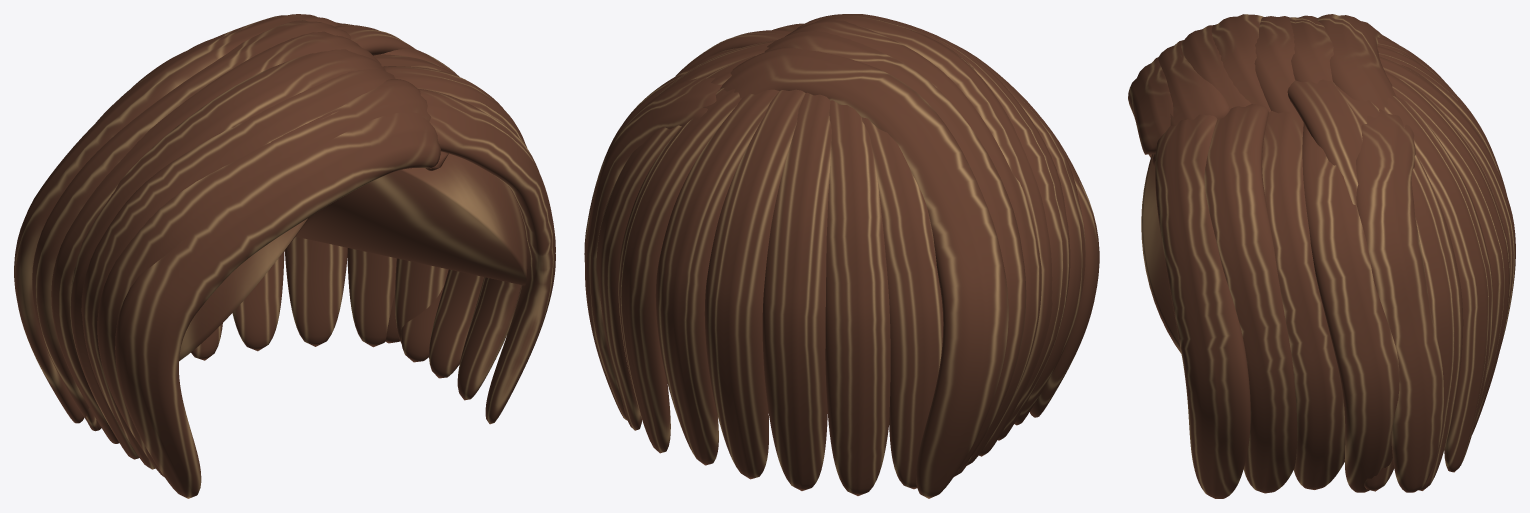
The model's file is Highlights-0d5b40b8b338252-hair.glb.
The picture shows the model from 3 angles, left to right: view 1: azimuth 30°, elevation 25°; view 2: azimuth 150°, elevation 25°; view 3: azimuth 270°, elevation 25°; orthographic projection. The views are drawn at different scales.
Parts seen in each view (by area): view 1: Hair / Bob / side sweep 0, Recessed roots, Hair / Bob / side sweep 1, Hair / Bob / side sweep 2, Hair / Bob / side sweep 7, Hair / Bob / side sweep 3, Hair / Bob / side sweep 6, Hair / Bob / side sweep 5, Hair / Bob / side sweep 4, Hair / Bob / side sweep 8, Hair / Bob / side sweep 15, Hair / Bob / side sweep 9 (+4 smaller); view 2: Hair / Bob / side sweep 6, Hair / Bob / side sweep 19, Hair / Bob / side sweep 18, Hair / Bob / side sweep 17, Hair / Bob / side sweep 16, Hair / Bob / side sweep 20, Hair / Bob / side sweep 15, Hair / Bob / side sweep 5, Hair / Bob / side sweep 3, Hair / Bob / side sweep 4, Hair / Bob / side sweep 11, Hair / Bob / side sweep 2 (+6 smaller); view 3: Hair / Bob / side sweep 7, Hair / Bob / side sweep 8, Hair / Bob / side sweep 11, Hair / Bob / side sweep 10, Hair / Bob / side sweep 9, Hair / Bob / side sweep 15, Hair / Bob / side sweep 14, Hair / Bob / side sweep 16, Hair / Bob / side sweep 13, Hair / Bob / side sweep 6, Hair / Bob / side sweep 17, Hair / Bob / side sweep 4 (+8 smaller).
Part boxes in pixels (x1,y1,x2,y2): Hair / Bob / side sweep 0: (115,112,448,498); Recessed roots: (179,153,527,360); Hair / Bob / side sweep 1: (97,79,431,476); Hair / Bob / side sweep 2: (81,69,395,469); Hair / Bob / side sweep 7: (418,89,555,424); Hair / Bob / side sweep 3: (70,49,385,459); Hair / Bob / side sweep 6: (14,14,339,423); Hair / Bob / side sweep 5: (32,20,351,430); Hair / Bob / side sweep 4: (51,31,381,443); Hair / Bob / side sweep 8: (383,66,526,400); Hair / Bob / side sweep 15: (284,236,347,346); Hair / Bob / side sweep 9: (373,54,483,378); Hair / Bob / side sweep 6: (720,47,1008,498); Hair / Bob / side sweep 19: (825,100,890,495); Hair / Bob / side sweep 18: (762,92,831,490); Hair / Bob / side sweep 17: (704,89,805,479); Hair / Bob / side sweep 16: (655,89,778,465); Hair / Bob / side sweep 20: (861,117,943,489); Hair / Bob / side sweep 15: (618,88,741,453); Hair / Bob / side sweep 5: (764,30,1026,476); Hair / Bob / side sweep 3: (816,14,1052,456); Hair / Bob / side sweep 4: (785,19,1041,465); Hair / Bob / side sweep 11: (585,77,722,420); Hair / Bob / side sweep 2: (848,14,1070,440); Hair / Bob / side sweep 7: (1155,114,1250,498); Hair / Bob / side sweep 8: (1204,104,1297,493); Hair / Bob / side sweep 11: (1356,109,1443,492); Hair / Bob / side sweep 10: (1302,123,1399,492); Hair / Bob / side sweep 9: (1262,111,1345,489); Hair / Bob / side sweep 15: (1384,95,1492,472); Hair / Bob / side sweep 14: (1336,85,1463,490); Hair / Bob / side sweep 16: (1384,70,1509,434); Hair / Bob / side sweep 13: (1287,79,1394,491); Hair / Bob / side sweep 6: (1317,14,1396,110); Hair / Bob / side sweep 17: (1379,56,1515,347); Hair / Bob / side sweep 4: (1254,16,1297,113).
Size of the model in its own units: 1.02 by 0.8675 by 0.7806.
Materials: 22 (22 with a texture image).
